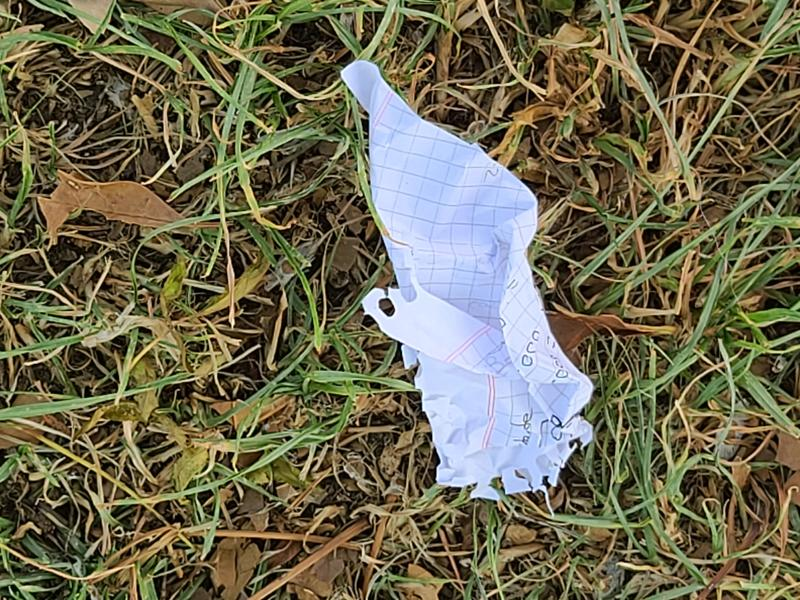papel: (340, 61, 596, 502)
